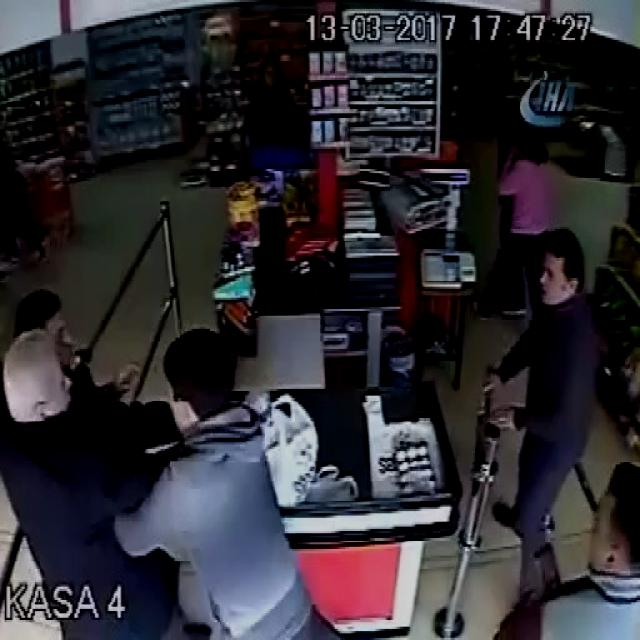fight: (0, 302, 282, 633)
